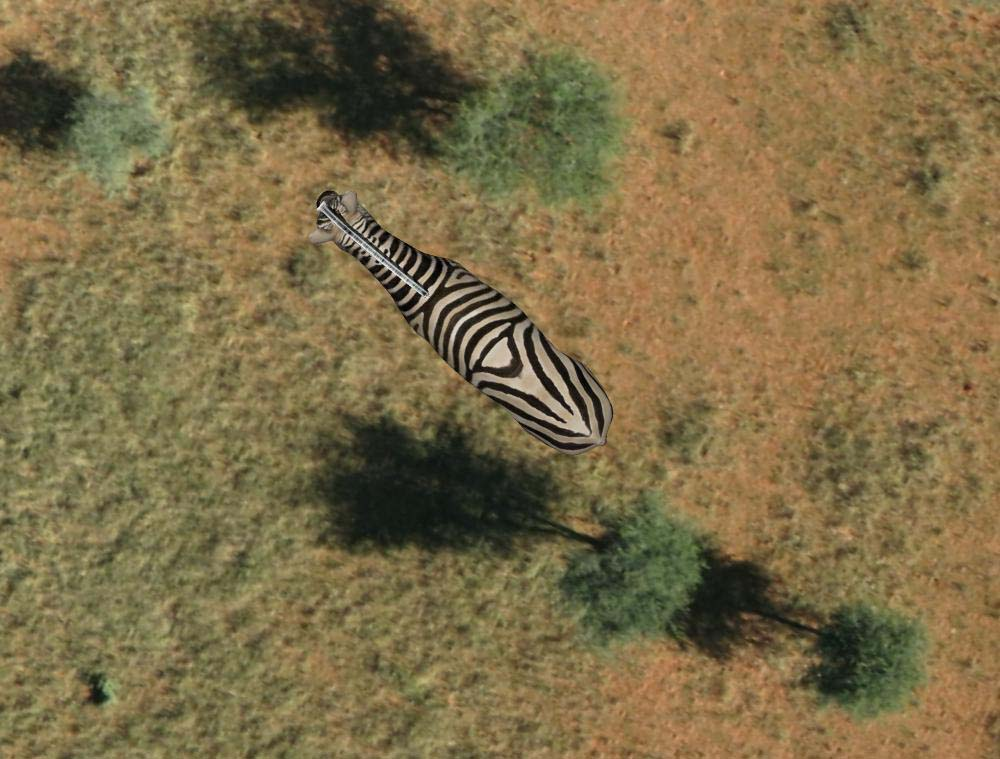zebra: (304, 180, 617, 454)
